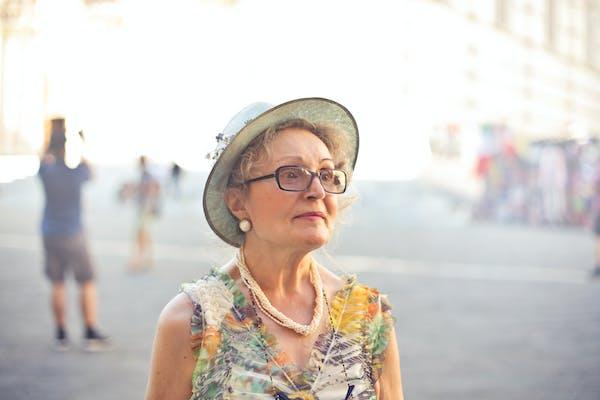spectacles: (273, 156, 350, 199)
